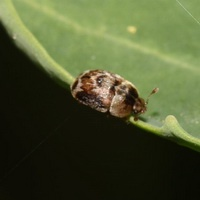insect: (71, 70, 147, 118)
